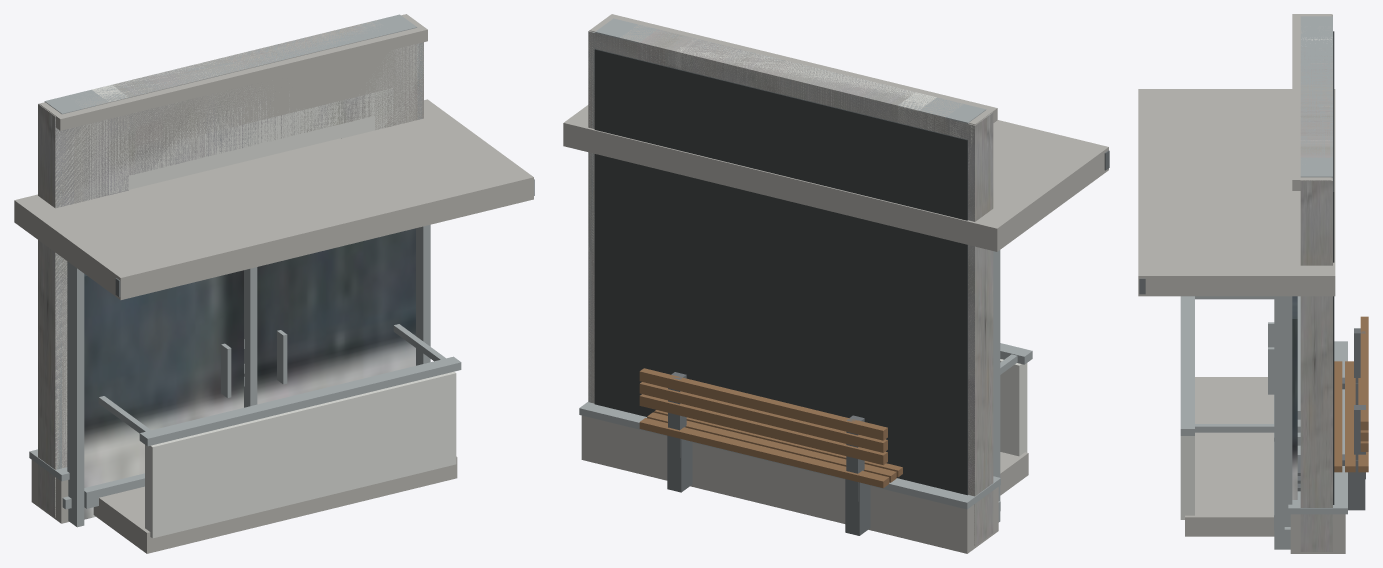
The model's file is architecture.glb.
The picture shows the model from 3 angles, left to right: view 1: azimuth 30°, elevation 25°; view 2: azimuth 150°, elevation 25°; view 3: azimuth 270°, elevation 25°; orthographic projection. The views are drawn at different scales.
Parts seen in each view (by area): view 1: EntranceConcrete edge, EntranceReflective glass 2, BalconyPorcelain cladding, AcademicLimestone, ResidencePorcelain cladding, SportsConcrete edge, EntranceAnodised metal, BalconyConcrete edge, GlazedAnodised metal, AcademicConcrete edge, BalconyAnodised metal, ParapetConcrete edge; view 2: GlazedWindow reveal, ResidenceWindow reveal, AcademicWindow reveal, AcademicLimestone, EntranceConcrete edge, ParapetConcrete edge, BenchOiled slats, SportsConcrete edge, SportsWindow reveal, ResidencePorcelain cladding, GlazedAnodised metal, BenchVent louvre (+5 smaller); view 3: EntranceConcrete edge, AcademicLimestone, BalconyConcrete edge, EntranceAnodised metal, GlazedAnodised metal, BenchOiled slats, BalconyAnodised metal, AcademicConcrete edge, BenchVent louvre, ParapetAnodised metal, EntranceReflective glass 2, BalconyPorcelain cladding (+3 smaller).
Part boxes in pixels (<box>): EntranceConcrete edge: <box>14,99,533,299</box>; EntranceReflective glass 2: <box>84,228,415,519</box>; BalconyPorcelain cladding: <box>145,371,456,538</box>; AcademicLimestone: <box>38,25,423,517</box>; ResidencePorcelain cladding: <box>54,43,423,514</box>; SportsConcrete edge: <box>55,20,422,468</box>; EntranceAnodised metal: <box>67,224,430,527</box>; BalconyConcrete edge: <box>93,456,457,553</box>; GlazedAnodised metal: <box>39,14,423,513</box>; AcademicConcrete edge: <box>39,14,427,130</box>; BalconyAnodised metal: <box>98,324,461,446</box>; ParapetConcrete edge: <box>31,460,69,523</box>; GlazedWindow reveal: <box>594,49,967,495</box>; ResidenceWindow reveal: <box>674,149,917,416</box>; AcademicWindow reveal: <box>639,125,896,424</box>; AcademicLimestone: <box>588,29,993,546</box>; EntranceConcrete edge: <box>563,105,1108,251</box>; ParapetConcrete edge: <box>581,415,998,553</box>; BenchOiled slats: <box>639,368,902,488</box>; SportsConcrete edge: <box>588,24,974,545</box>; SportsWindow reveal: <box>619,96,944,396</box>; ResidencePorcelain cladding: <box>588,31,989,495</box>; GlazedAnodised metal: <box>588,18,1000,512</box>; BenchVent louvre: <box>667,372,870,535</box>; EntranceConcrete edge: <box>1138,89,1335,296</box>; AcademicLimestone: <box>1300,14,1332,551</box>; BalconyConcrete edge: <box>1185,377,1274,536</box>; EntranceAnodised metal: <box>1268,296,1292,549</box>; GlazedAnodised metal: <box>1284,16,1332,538</box>; BenchOiled slats: <box>1334,316,1368,472</box>; BalconyAnodised metal: <box>1180,296,1300,435</box>; AcademicConcrete edge: <box>1292,14,1331,190</box>; BenchVent louvre: <box>1342,328,1365,510</box>; ParapetAnodised metal: <box>1288,341,1347,514</box>; EntranceReflective glass 2: <box>1292,296,1297,499</box>; BalconyPorcelain cladding: <box>1180,436,1194,519</box>.
Bounding box in the file's own units: 3.72 × 3.46 × 1.93.
10 materials, 4 textured.
